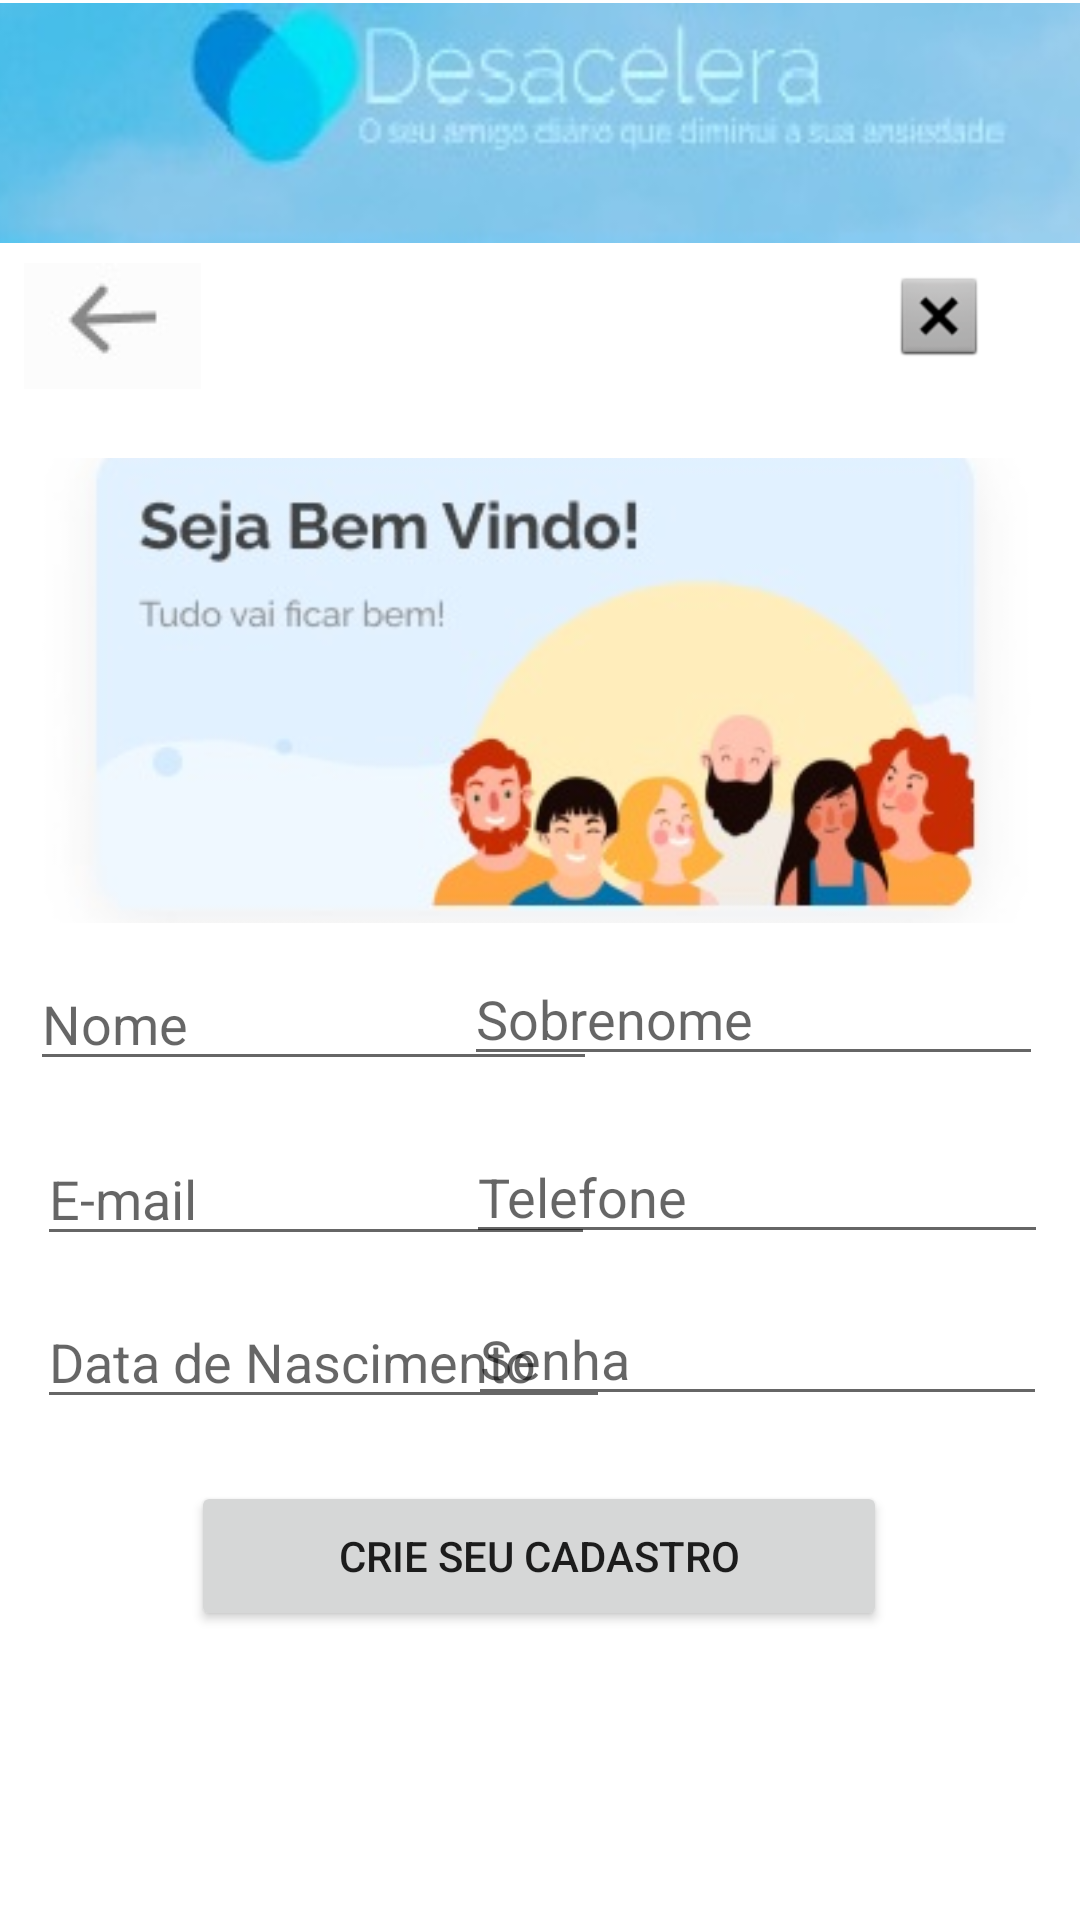

Point at icon controls on the screen. Image size 1080 x 1920, points as (x,y).
fig voltar: (113,319)
